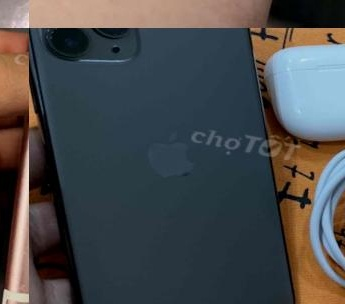scratch: (0, 127, 29, 304)
